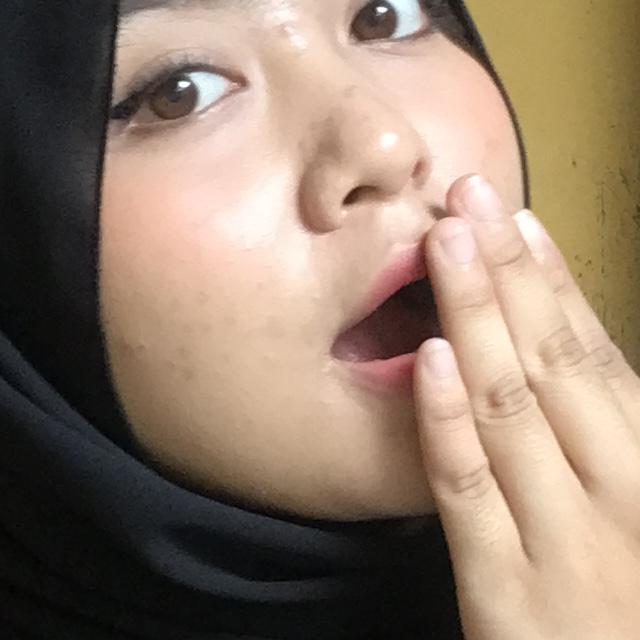ngantuk: (270, 176, 640, 640)
